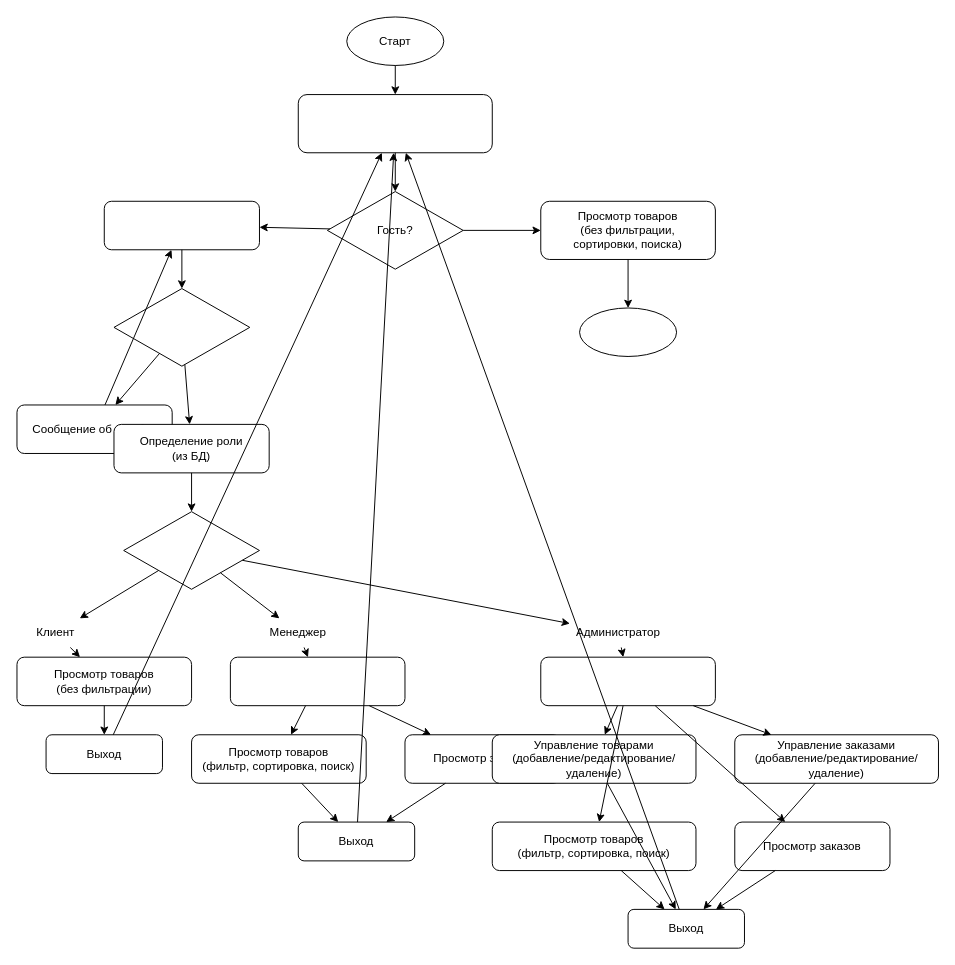
Some shapes in this 955 by 965 pixel diagram are drawn without their labels. The shapes that lost their labels are listed below. From the top down, each one's centre as x and y in pixels, then its label:
(x=394, y=123): Окно входа (ввод логина/пароля или кнопка "Гость")
(x=181, y=225): Ввод логина/пароля
(x=181, y=327): Проверка в БД (верно / неверно)
(x=628, y=331): Конец
(x=191, y=550): Роль?
(x=317, y=681): Главное меню менеджера
(x=627, y=681): Главное меню администратора
